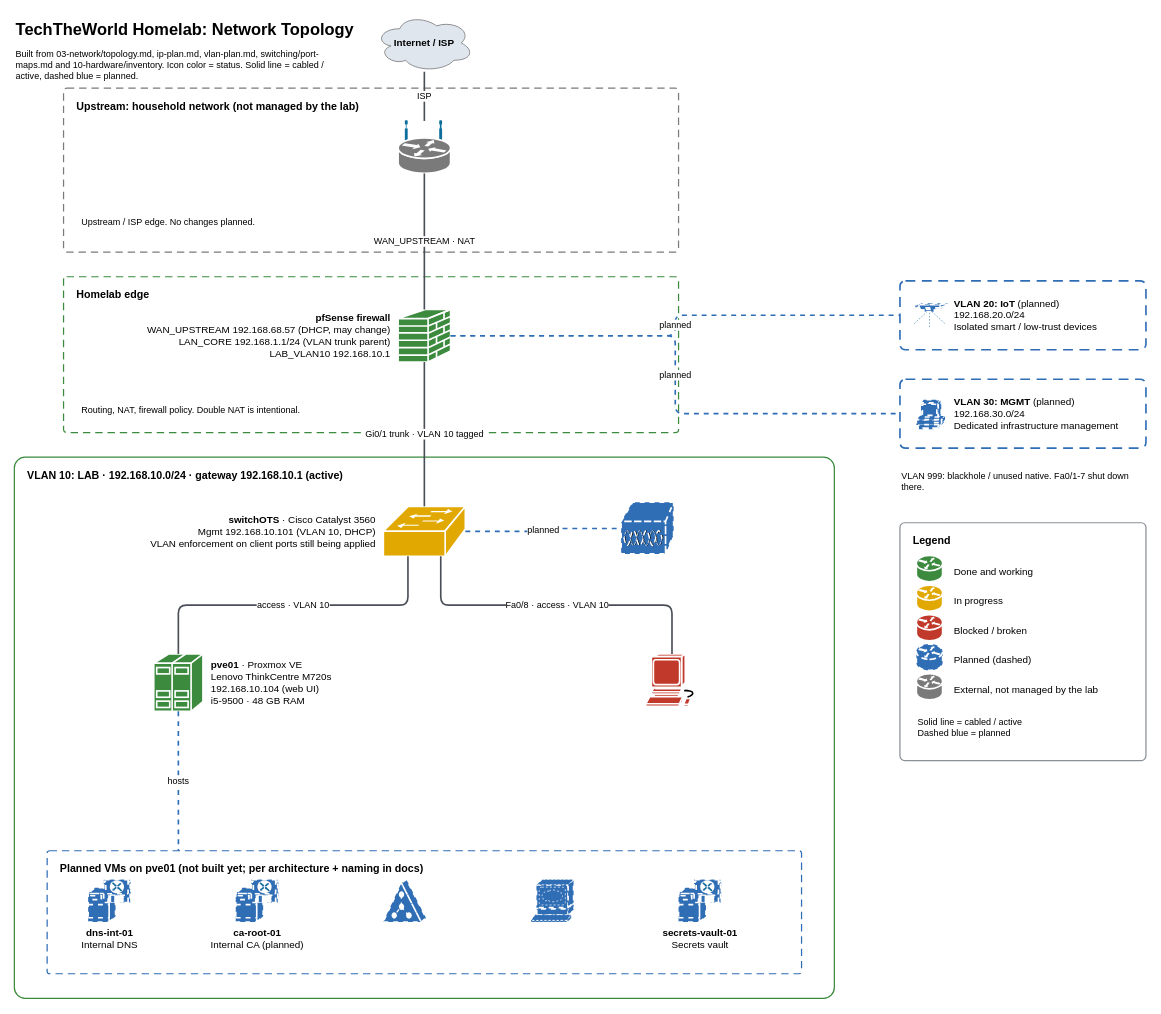
The diagram is 1161 pixels wide and 1014 high, and some of its shapes have lost their labels. The shapes that lost their labels are listed below. From the top down, each one's centre as x and y in pixels, then its label:
At (424,147): "Deco (household router) 192.168.68.1 192.168.68.0/24 · DHCP from Deco".
At (647,528): "Wi-Fi AP (hardware TBD) SSID-to-VLAN mapping not designed yet".
At (672,680): "OptiPlex 3080 · lab workstation Omarchy install in progress, currently blocked".
At (404,900): "labdc Windows AD DC".
At (552,900): "odoo-core-01 Odoo control plane".
